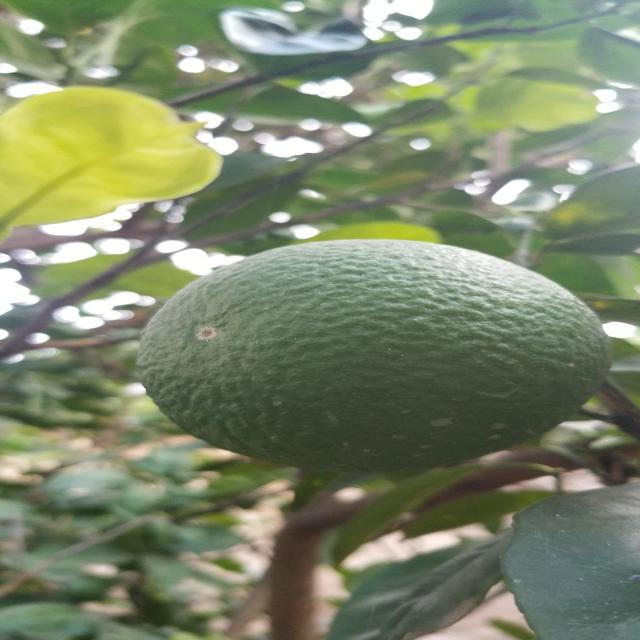Unripe: (121, 233, 604, 481)
